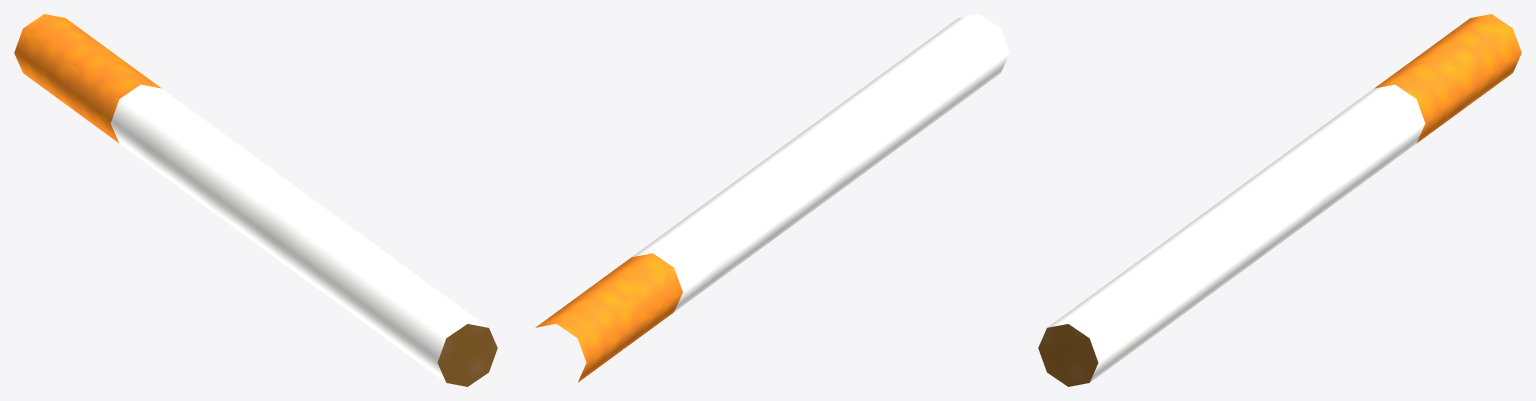
The picture shows the model from 3 angles, left to right: view 1: azimuth 30°, elevation 25°; view 2: azimuth 150°, elevation 25°; view 3: azimuth 330°, elevation 25°; orthographic projection.
Visible parts, largest first — view 1: SmokingAccesories06; view 2: SmokingAccesories06; view 3: SmokingAccesories06.
Part boxes in pixels (x1,y1,x2,y2): SmokingAccesories06: (14,14,497,386); SmokingAccesories06: (535,14,1009,382); SmokingAccesories06: (1038,14,1521,386).
Size of what is drawn, in the model's own units: 0.0107 by 0.0107 by 0.1304.
Materials: 1 (1 with a texture image).
